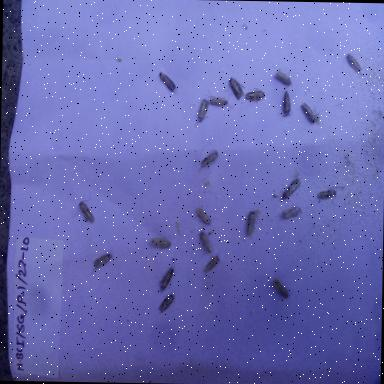pbw: (238, 208, 264, 246), (340, 50, 368, 82), (151, 261, 178, 294), (156, 67, 182, 100), (150, 292, 182, 318), (196, 148, 222, 178), (83, 250, 115, 274), (144, 230, 174, 255), (238, 80, 266, 106), (267, 65, 297, 87), (224, 74, 246, 104), (314, 183, 340, 208), (280, 176, 302, 204), (75, 198, 96, 226), (301, 100, 322, 127), (268, 278, 290, 303), (207, 90, 232, 112), (204, 250, 224, 276), (195, 96, 210, 128), (192, 205, 212, 229), (196, 226, 213, 254), (280, 203, 303, 223), (278, 92, 294, 120)
